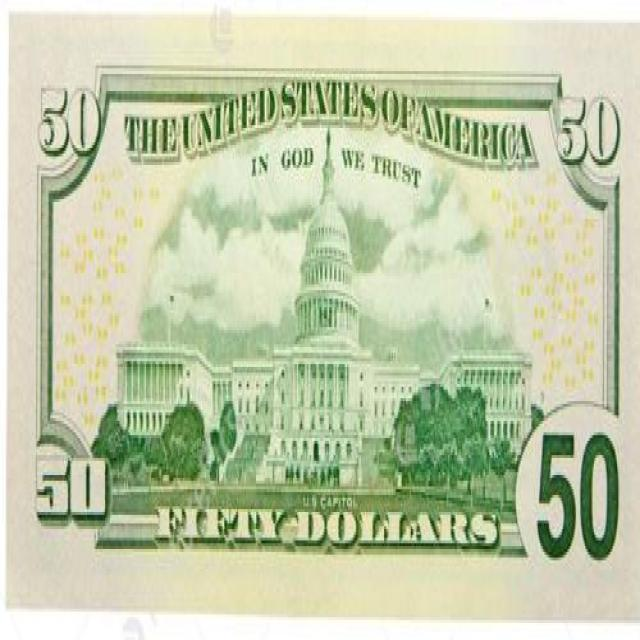50-Back: (5, 20, 640, 620)
